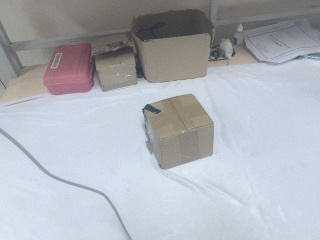box: (131, 8, 213, 84), (142, 93, 214, 169), (42, 41, 96, 97), (92, 33, 140, 91)
